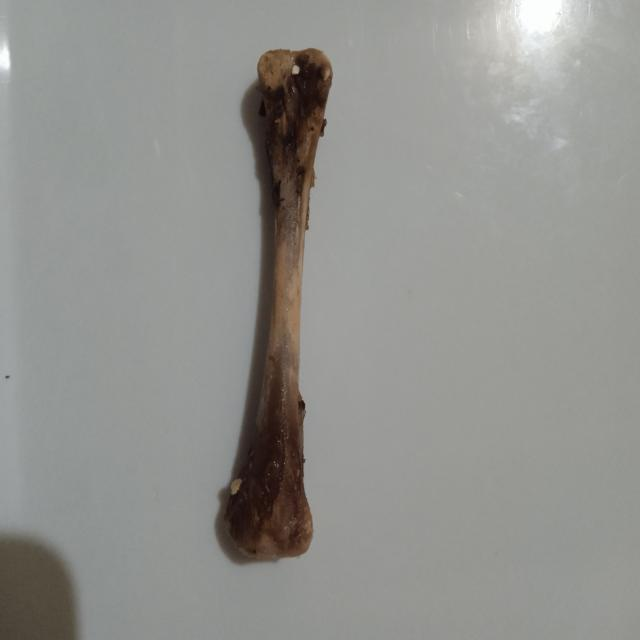bone: (218, 42, 334, 566)
